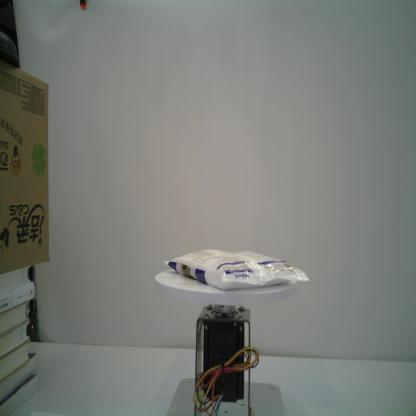Seasoner: (160, 247, 311, 288)
